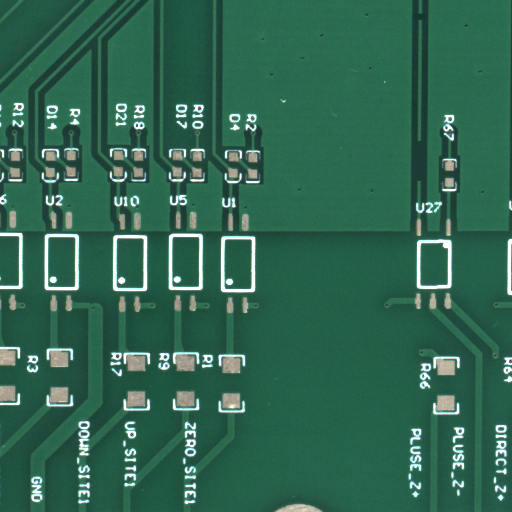Open_circuit: (419, 160, 430, 205), (419, 15, 431, 28)
